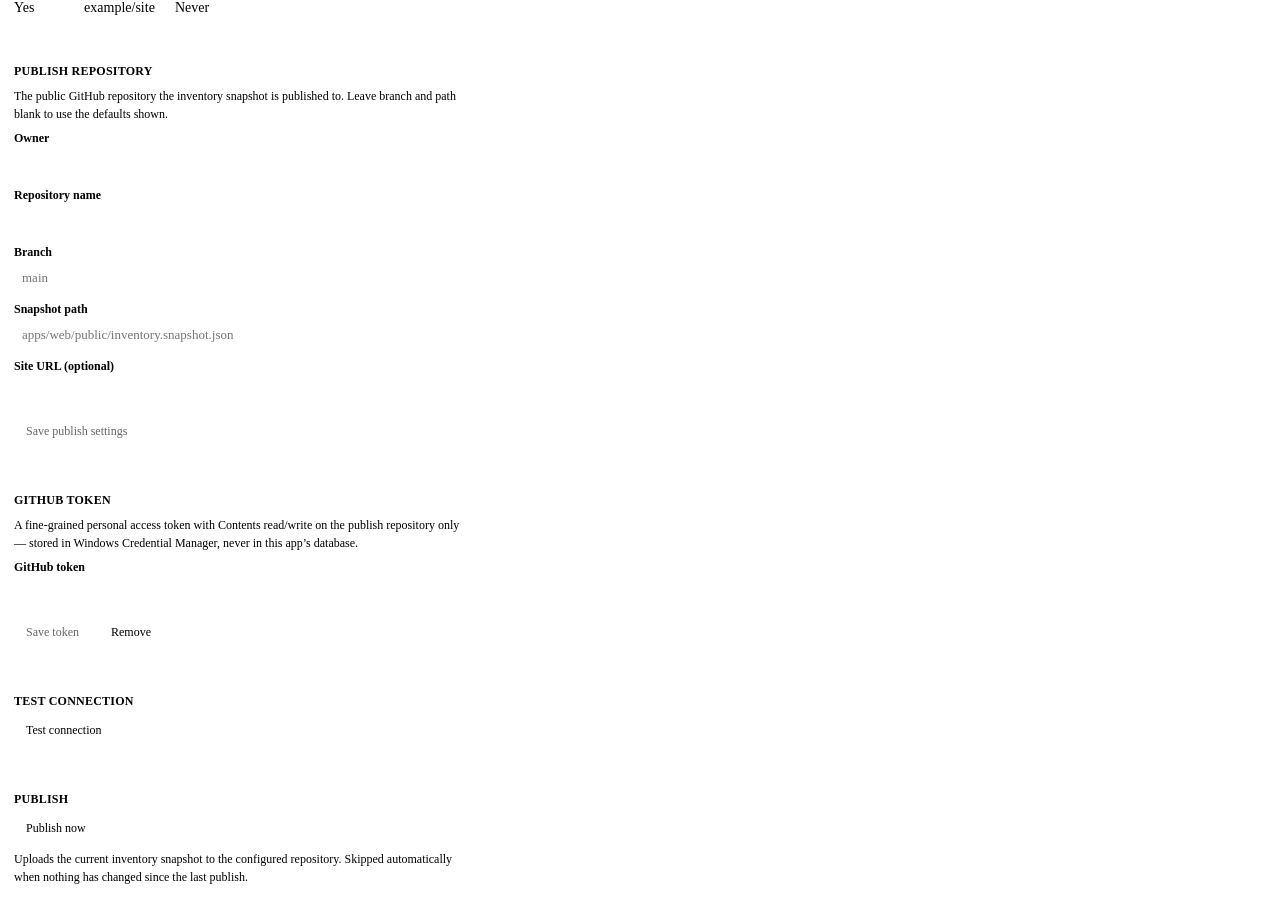
Test: Publish now › toasts Published when the publish uploads a new snapshot
(page scrolled)
Expected: the text "Yes" is shown, [14,0,34,15]
What coordinates should you click on to do the following:
click the button "Publish now"
I would click on:
 (56, 828)
Its box is [14,815,98,842].
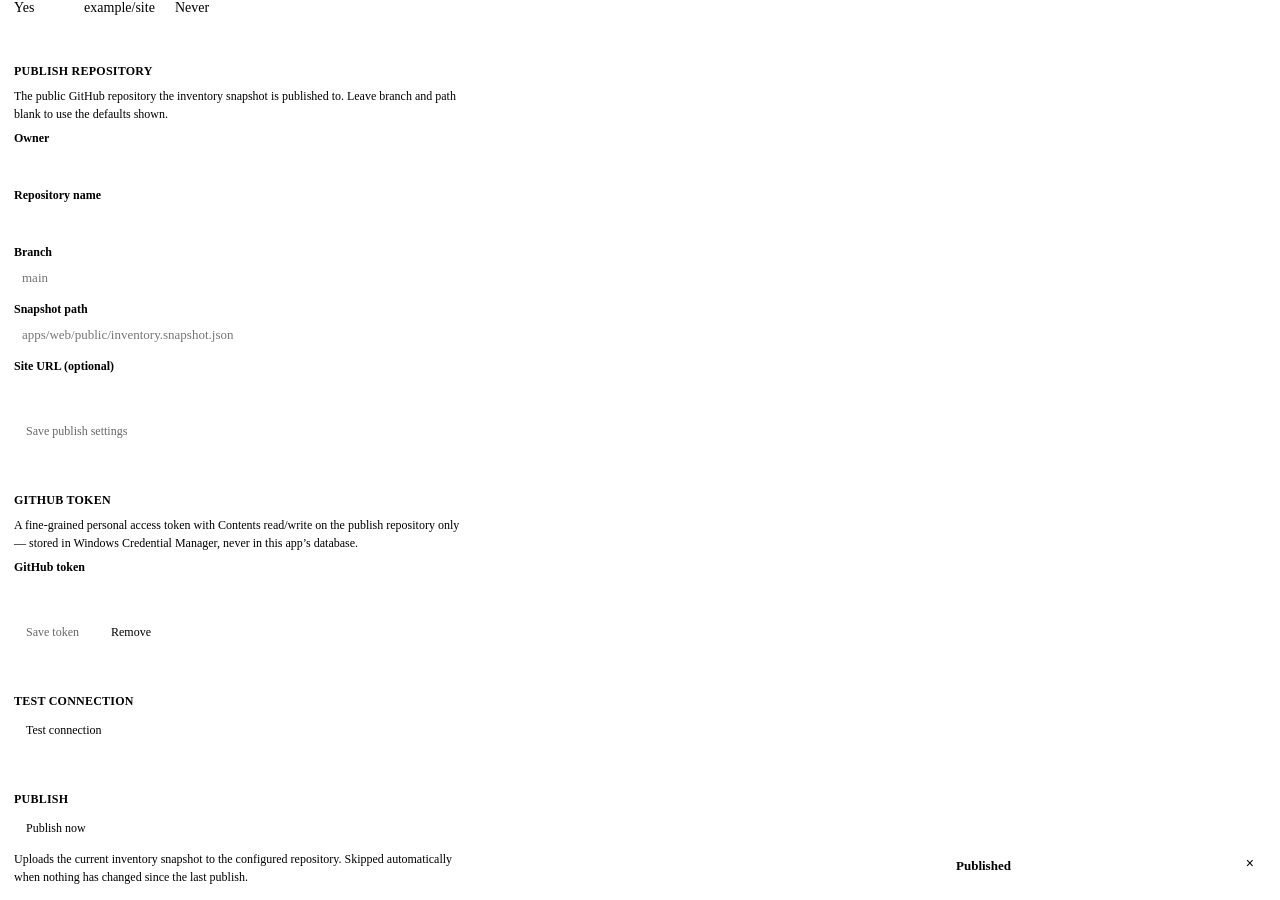
Expected: the text "Published" is shown, [956,858,1011,873]
